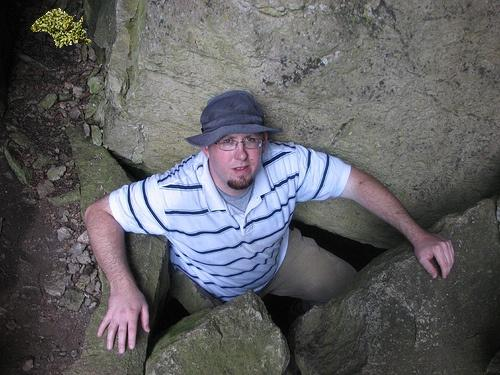tampered: (31, 9, 92, 48)
